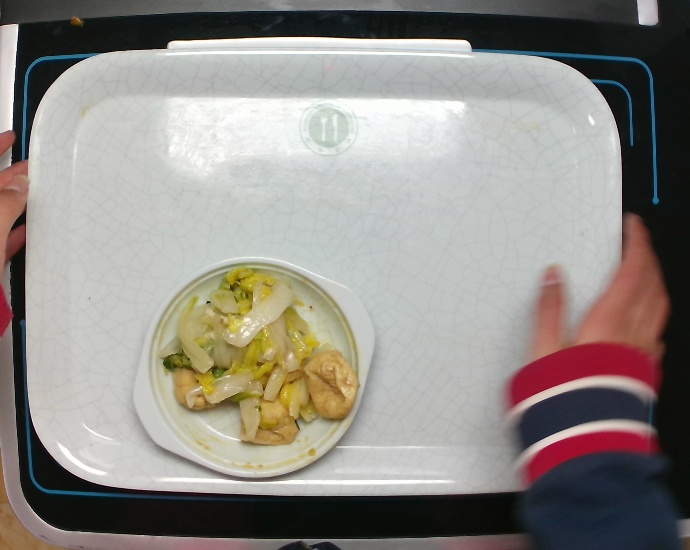JYsf-Shuang_Er_Pan: (130, 254, 379, 480)
